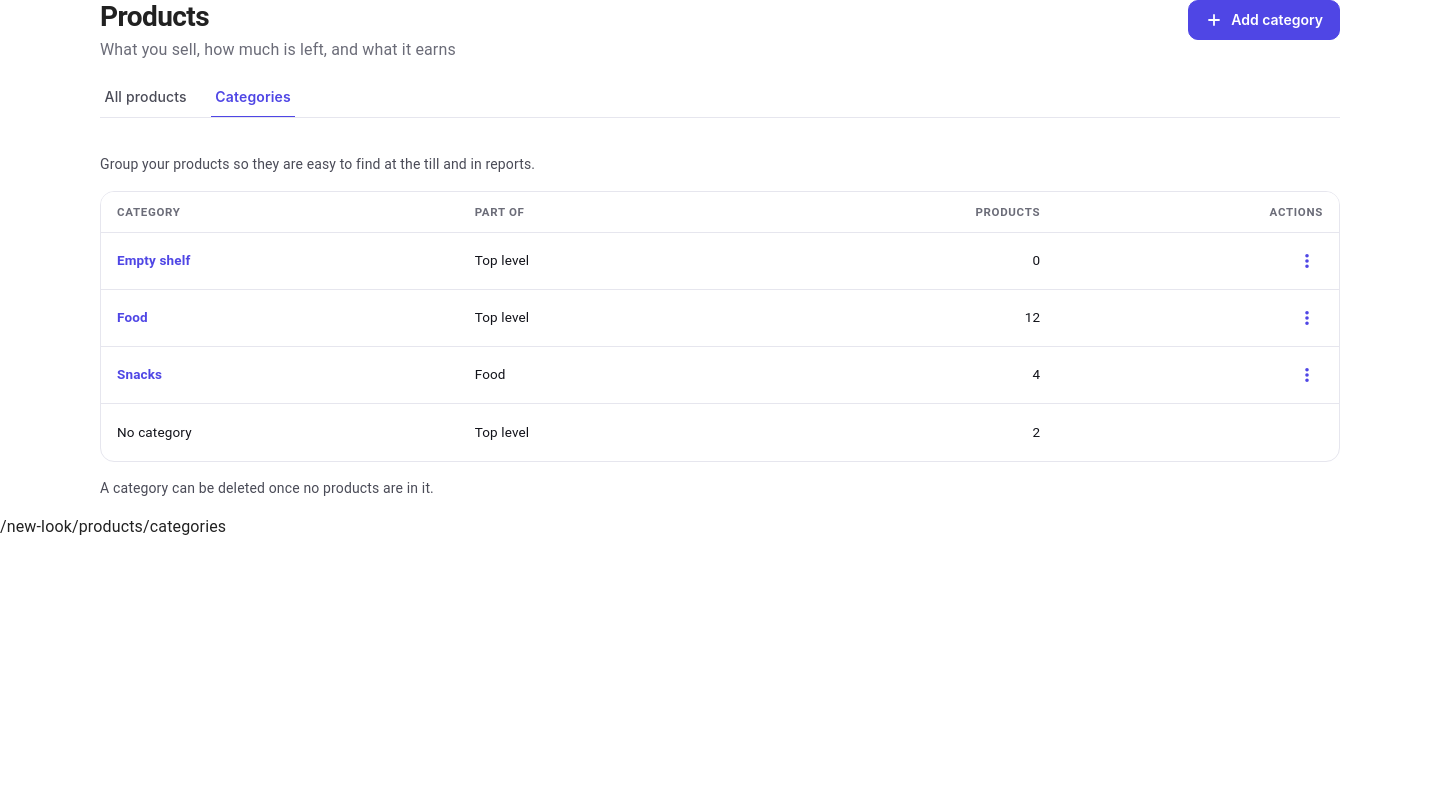
Test: renaming a category › the row menu opens the dialog with the name filled in, and Save sends the new name
Click the button named "More actions for Food". click: (1307, 318)
box: [1291, 302, 1323, 334]
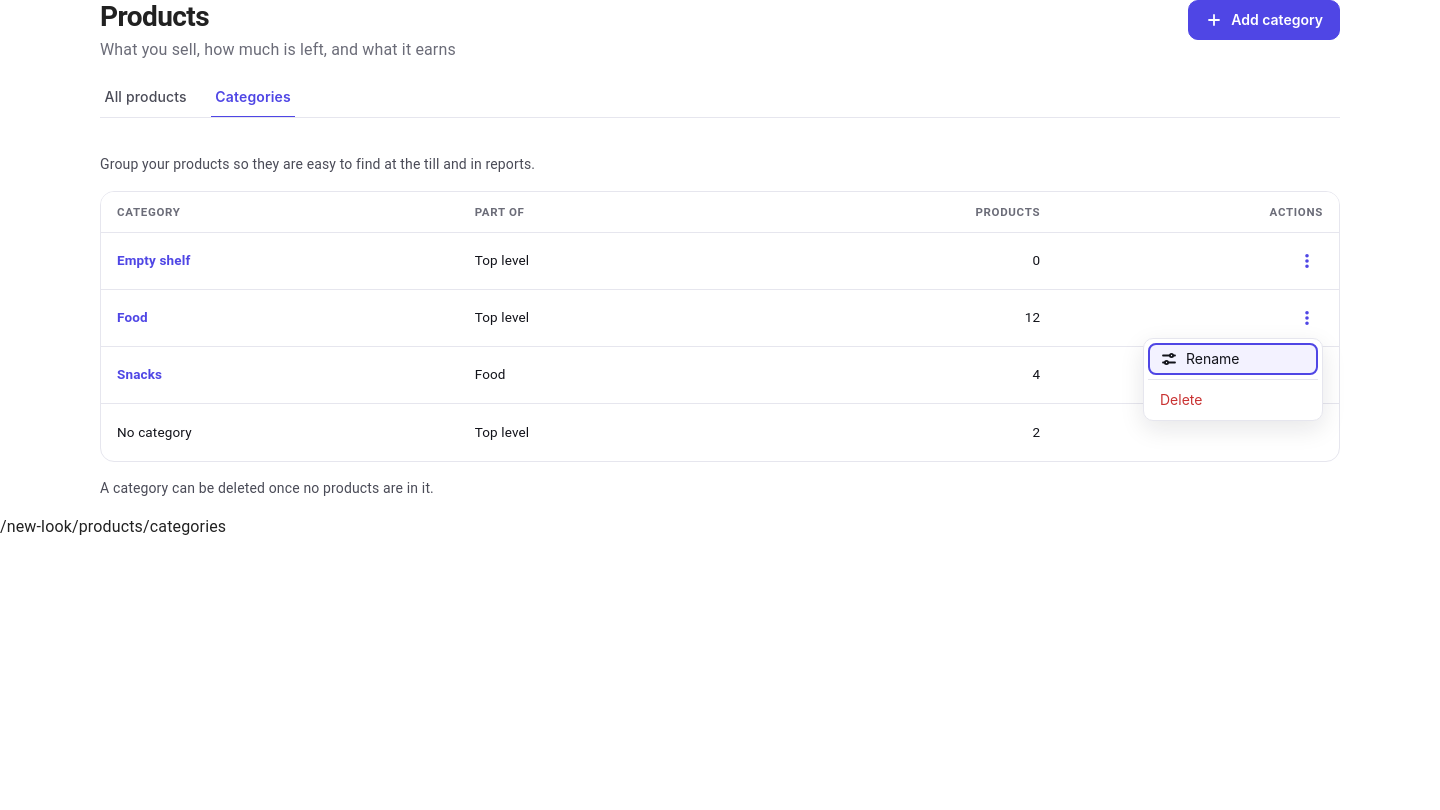
Click the menu item "Rename". click: (1233, 359)
box: [1148, 343, 1318, 375]
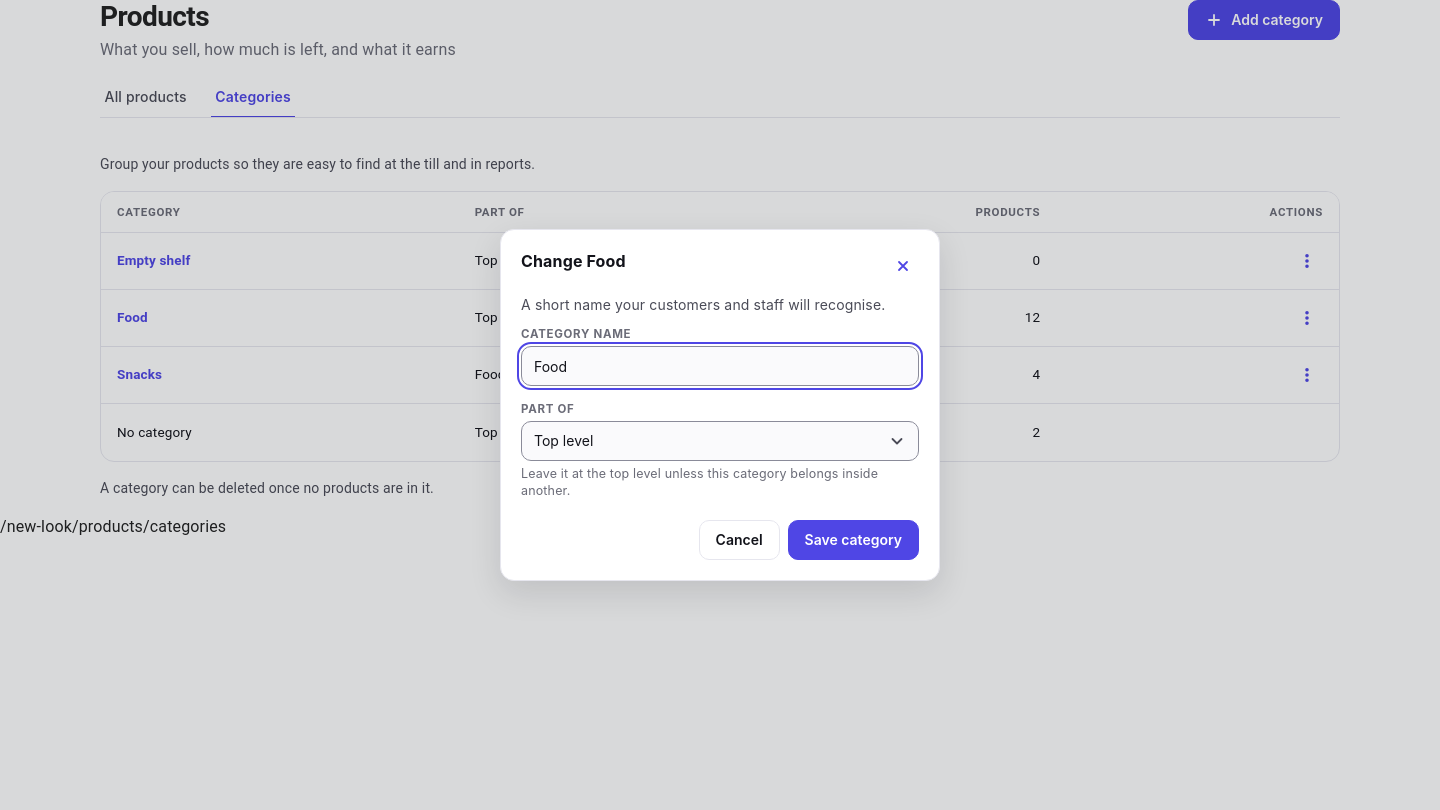
Result: the field labelled "Category name" holds "Food"
Replace the text in the field labelled "Category name" with "Groceries". click: (720, 366)
box: [522, 347, 918, 385]
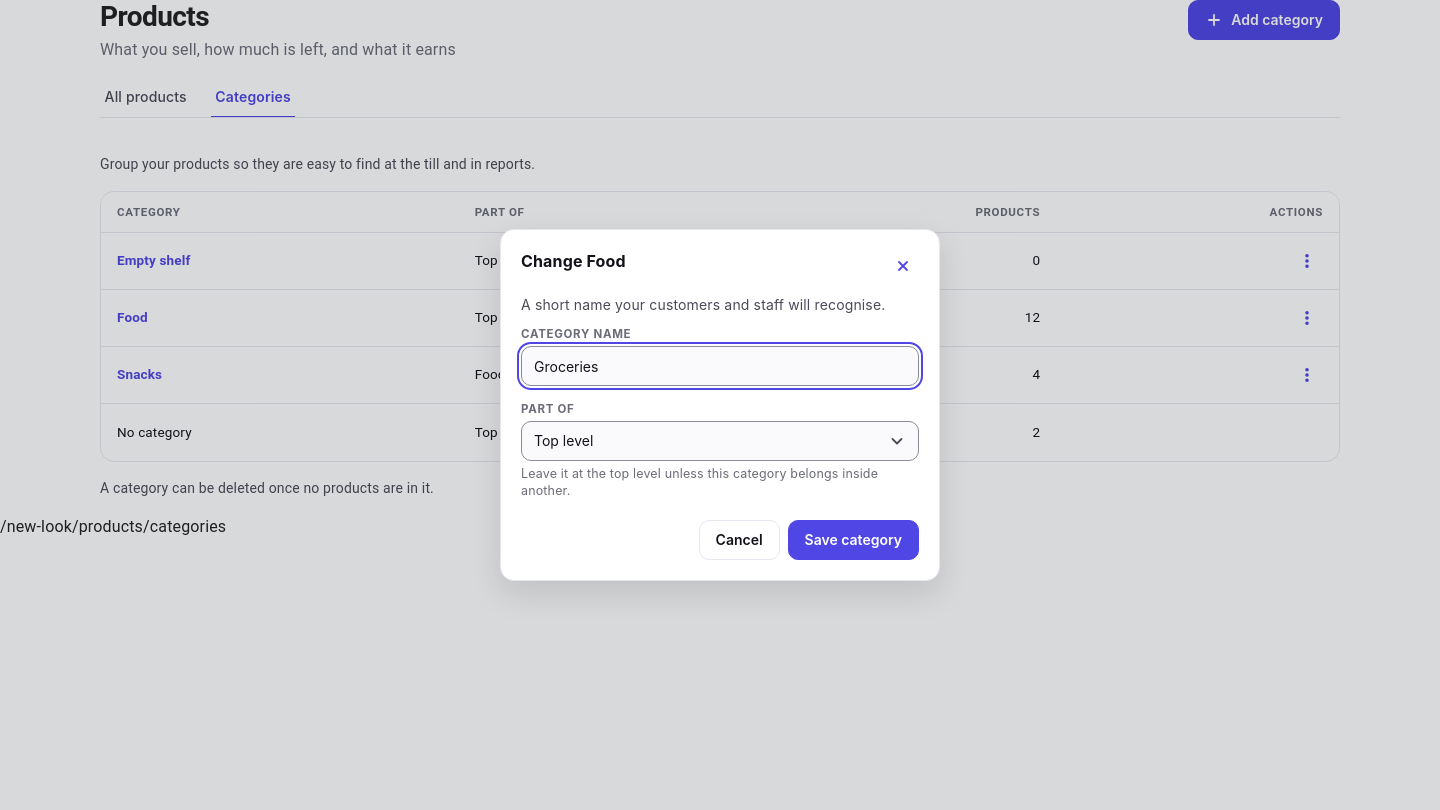
Click the button "Save category". click: (853, 540)
box: [788, 520, 919, 560]
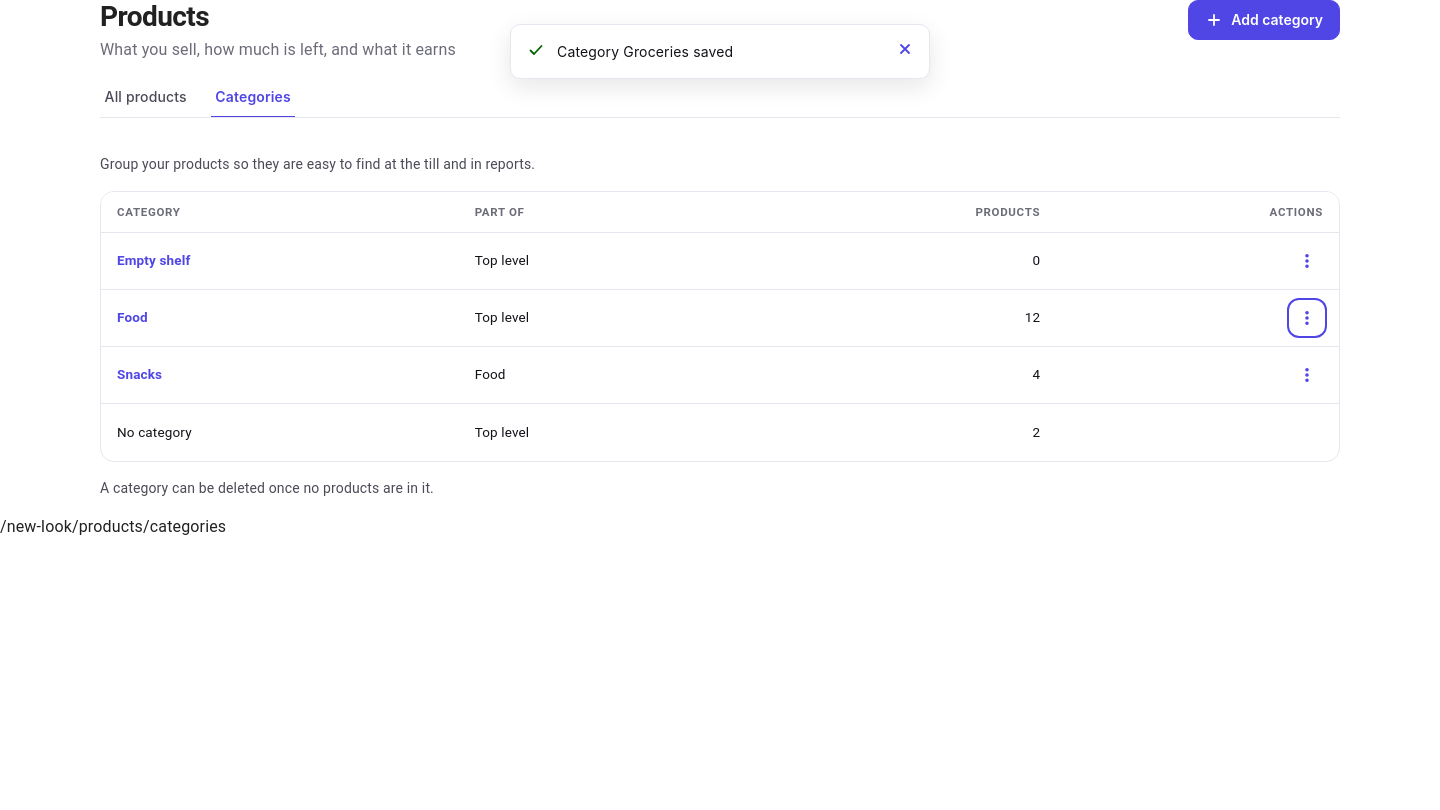
Result: the text "Category Groceries saved" is shown at [557, 43, 733, 60]
